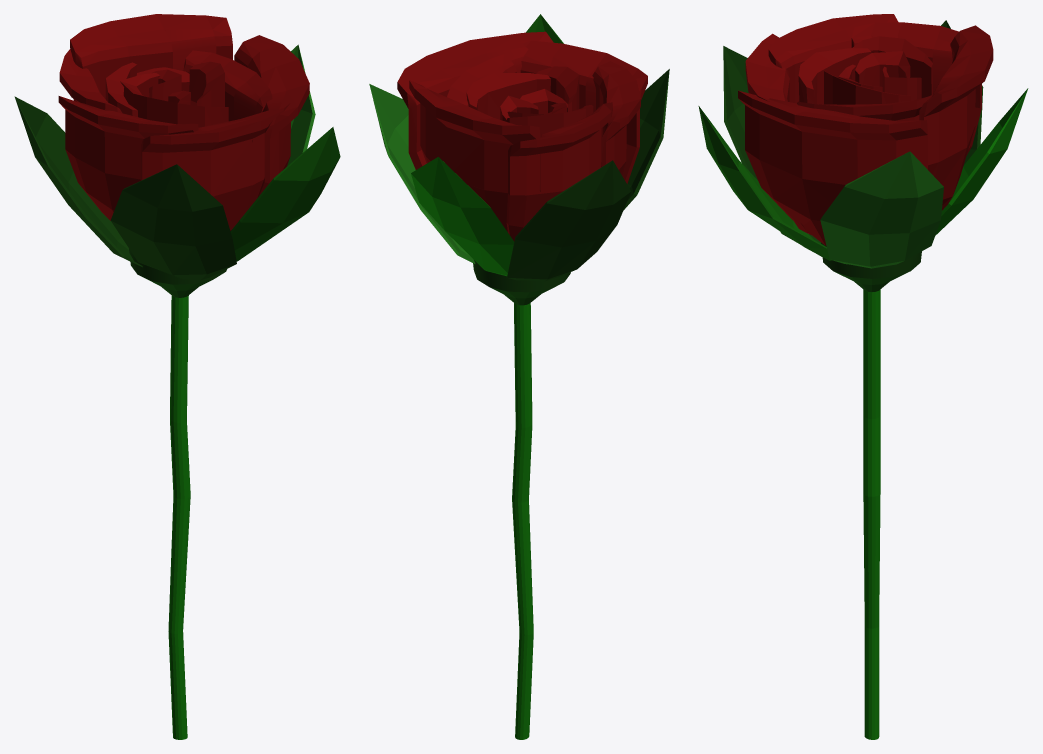
File: jangmi1-2.fbx
The picture shows the model from 3 angles, left to right: view 1: azimuth 30°, elevation 25°; view 2: azimuth 150°, elevation 25°; view 3: azimuth 270°, elevation 25°; orthographic projection. The views are drawn at different scales.
Parts seen in each view (by area): view 1: jangmi1-2; view 2: jangmi1-2; view 3: jangmi1-2.
Boxes of the visible parts, x1,y1,x2,y2 form: jangmi1-2: [14, 14, 340, 739]; jangmi1-2: [369, 14, 669, 739]; jangmi1-2: [698, 14, 1028, 739].
Size of the model in its own units: 0.1813 by 0.4395 by 0.1926.
